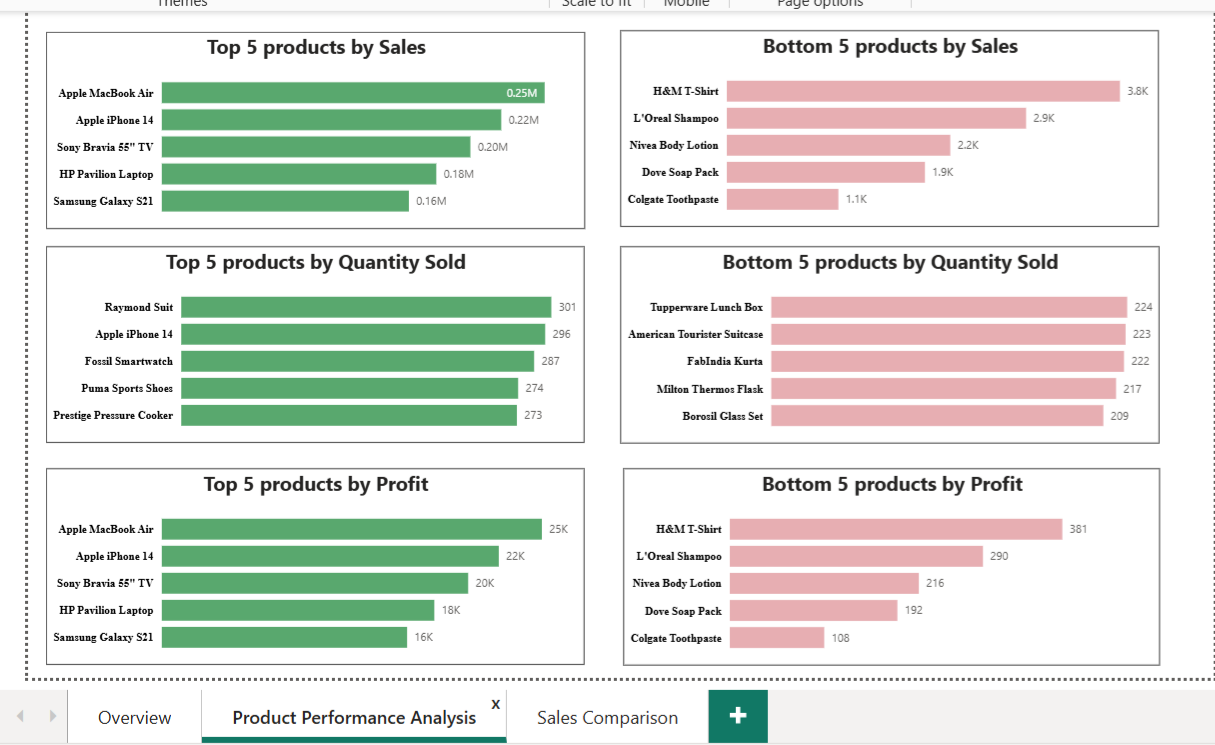

The page's visual inventory and layout, read from the dashboard file:
{"tool":"powerbi","page":{"name":"Product Performance Analysis","canvas":[1280,720],"ordinal":1},"visuals":[{"type":"barChart","title":"Top 5 products by Sales","fields":{"Category":["Dim Product.Product Name"],"Y":["Sum(Fact Table.Net Sales )"]},"box":[19.3,22.1,582.1,212.4],"z":0},{"type":"barChart","title":"Bottom 5 products by Sales","fields":{"Category":["Dim Product.Product Name"],"Y":["Sum(Fact Table.Net Sales )"]},"box":[639.6,21,581.3,212.1],"z":1000},{"type":"barChart","title":"Top 5 products by Quantity Sold","fields":{"Category":["Dim Product.Product Name"],"Y":["Sum(Fact Table.Units Sold)"]},"box":[19.4,254.2,581.3,212.1],"z":2000},{"type":"barChart","title":"Bottom 5 products by Quantity Sold","fields":{"Category":["Dim Product.Product Name"],"Y":["Sum(Fact Table.Units Sold)"]},"box":[639.3,254.2,581.8,212.5],"z":3000},{"type":"barChart","title":"Top 5 products by Profit","fields":{"Category":["Dim Product.Product Name"],"Y":["Sum(Fact Table.Profit)"]},"box":[19.4,493.9,581.3,212.1],"z":4000},{"type":"barChart","title":"Bottom 5 products by Profit","fields":{"Category":["Dim Product.Product Name"],"Y":["Sum(Fact Table.Profit)"]},"box":[642.8,493.8,579.3,212.4],"z":5000}]}

Visuals, with their boxes on the page's 1280x720 design canvas (x1, y1, x2, y2). These are canvas units, not pixel positions in the 1215x745 screenshot, which may show the page scaled, cropped or inside an application window:
"Top 5 products by Sales" barChart: select_region(19, 22, 601, 234)
"Bottom 5 products by Sales" barChart: select_region(640, 21, 1221, 233)
"Top 5 products by Quantity Sold" barChart: select_region(19, 254, 601, 466)
"Bottom 5 products by Quantity Sold" barChart: select_region(639, 254, 1221, 467)
"Top 5 products by Profit" barChart: select_region(19, 494, 601, 706)
"Bottom 5 products by Profit" barChart: select_region(643, 494, 1222, 706)
